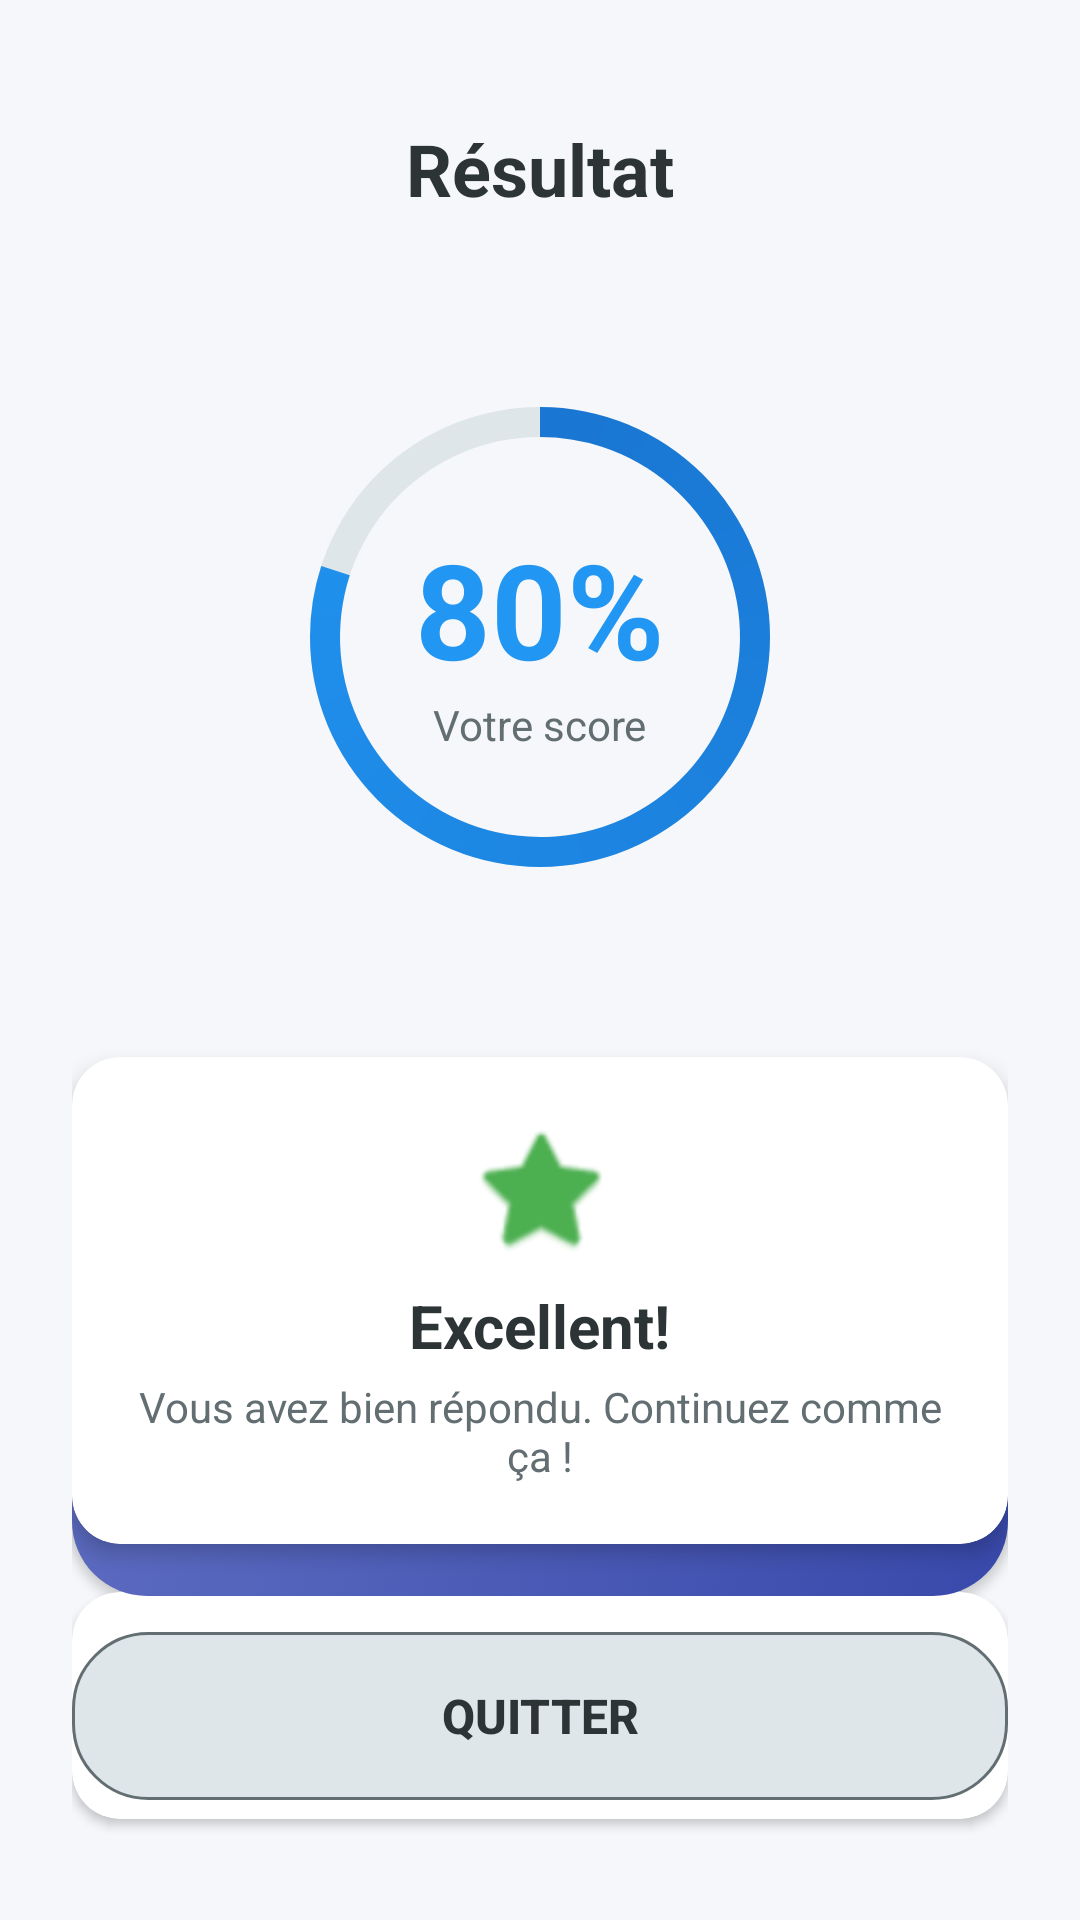

Locate icon controls on the screen. Image size 1080 x 1920, boxes as (x1, y1, x2, y2).
star on: (481, 1132, 601, 1248)
